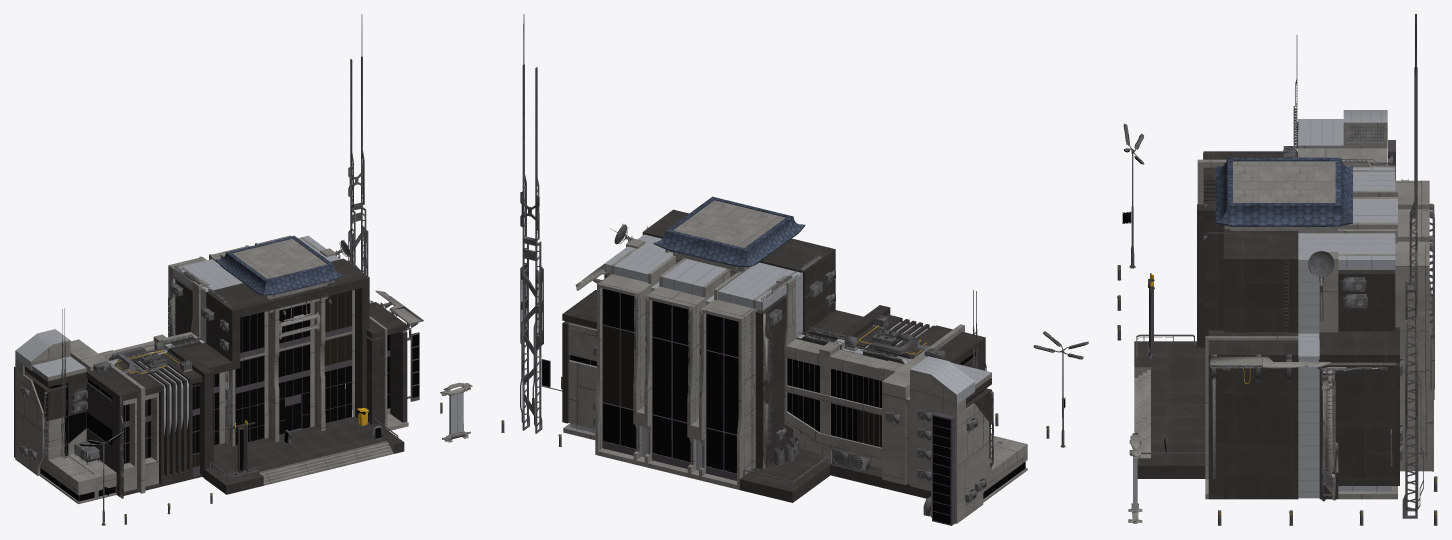
File: bldgS.glb
3 renders of one model, left to right at view 1: azimuth 30°, elevation 25°; view 2: azimuth 150°, elevation 25°; view 3: azimuth 270°, elevation 25°, orthographic. The views are drawn at different scales.
Parts seen in each view (by area): view 1: bldgS; view 2: bldgS; view 3: bldgS.
Boxes of the visible parts, bbox=[...] form: bldgS: bbox=[14, 14, 472, 525]; bldgS: bbox=[501, 14, 1088, 525]; bldgS: bbox=[1117, 14, 1437, 525].
Size of the model in its own units: 31.39 by 27.13 by 15.58.
11 materials, 9 textured.
